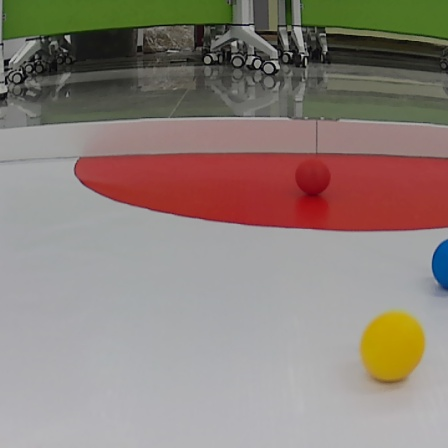blue: (429, 238, 448, 291)
red: (296, 158, 332, 193)
red_base: (74, 141, 448, 231)
yellow: (358, 308, 427, 383)
